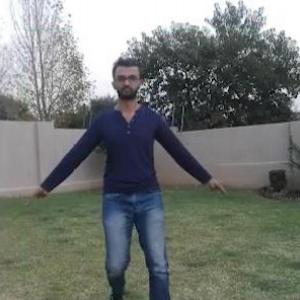land: (1, 34, 257, 299)
